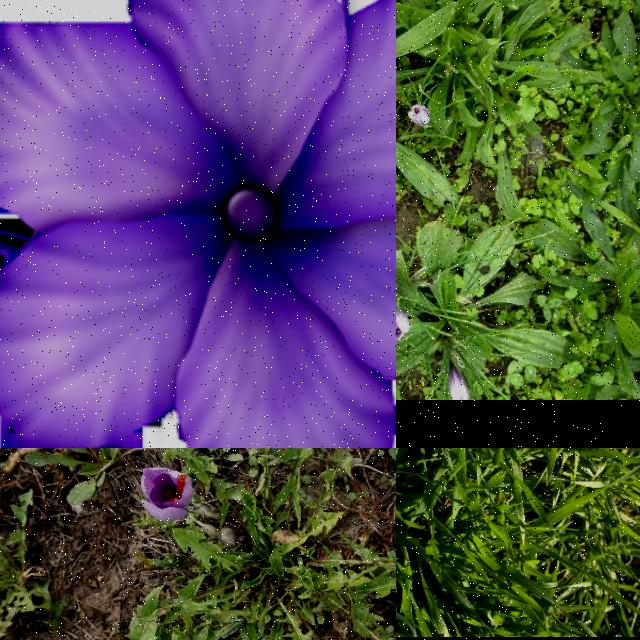flower: (140, 466, 193, 522), (449, 370, 469, 400), (396, 312, 411, 342), (410, 105, 430, 127)
